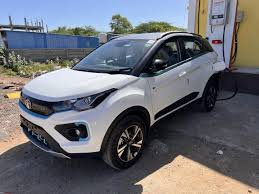Tata Nexon: (17, 26, 220, 173)
